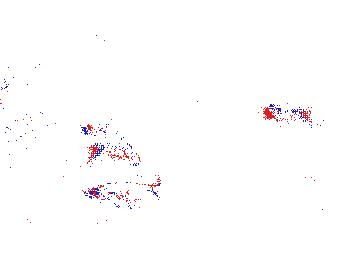red belly glassfish: (80, 111, 144, 136)
redtail glassfish: (86, 173, 165, 206), (90, 136, 142, 167), (267, 102, 311, 125)
